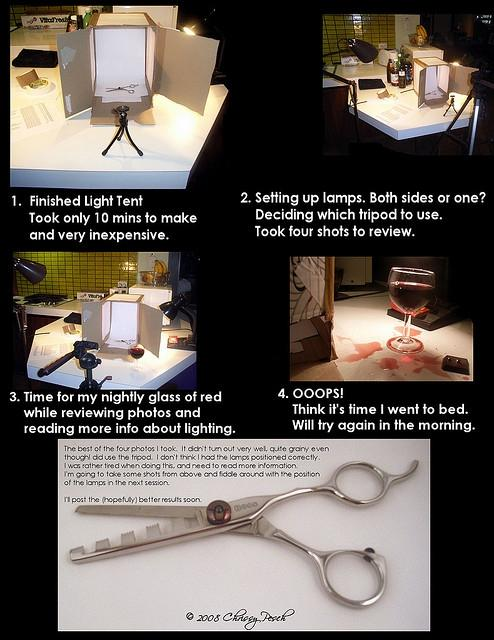banana: (158, 260, 167, 276), (156, 260, 164, 276), (419, 26, 426, 39), (154, 260, 159, 278)
